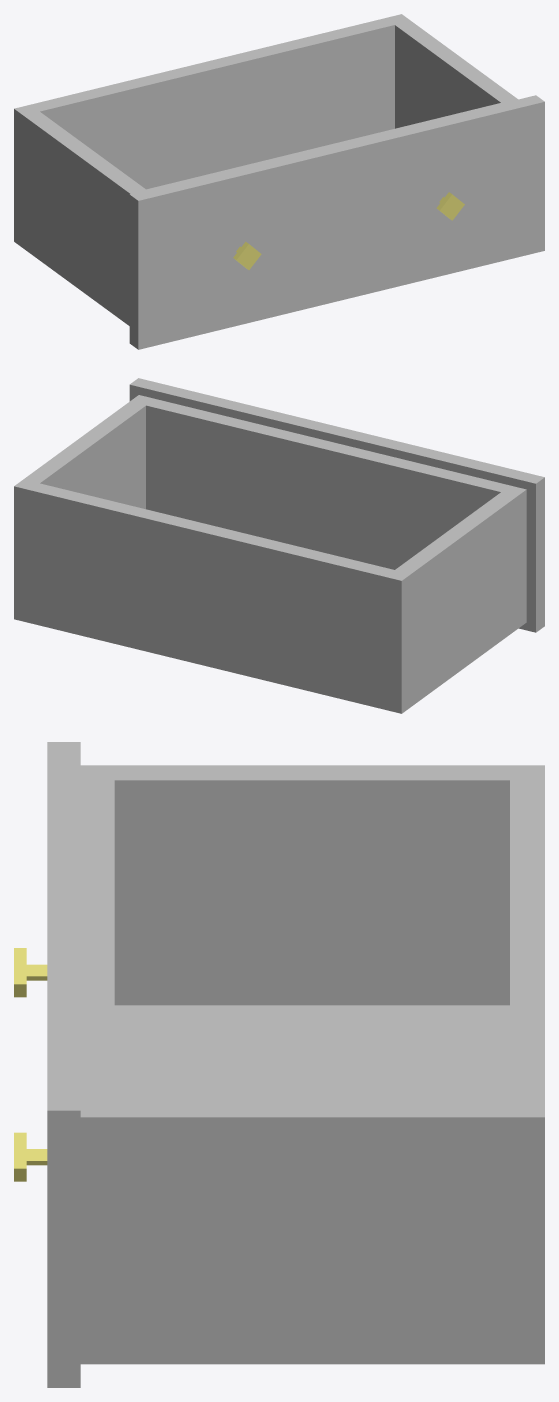
The model's file is Itr_Wardrobe2_Drawer_Big_06.FBX.
3 renders of one model, top to bottom at view 1: azimuth 30°, elevation 25°; view 2: azimuth 150°, elevation 25°; view 3: azimuth 270°, elevation 25°, orthographic. The views are drawn at different scales.
Parts seen in each view (by area): view 1: Itr_Wardrobe2_Drawer_Big_06; view 2: Itr_Wardrobe2_Drawer_Big_06; view 3: Itr_Wardrobe2_Drawer_Big_06.
Part boxes in pixels (x1=…): Itr_Wardrobe2_Drawer_Big_06: x1=14, y1=14, x2=544, y2=349; Itr_Wardrobe2_Drawer_Big_06: x1=14, y1=378, x2=544, y2=713; Itr_Wardrobe2_Drawer_Big_06: x1=14, y1=742, x2=544, y2=1387.
Bounding box in the file's own units: 37.86 × 13.27 × 23.04.
